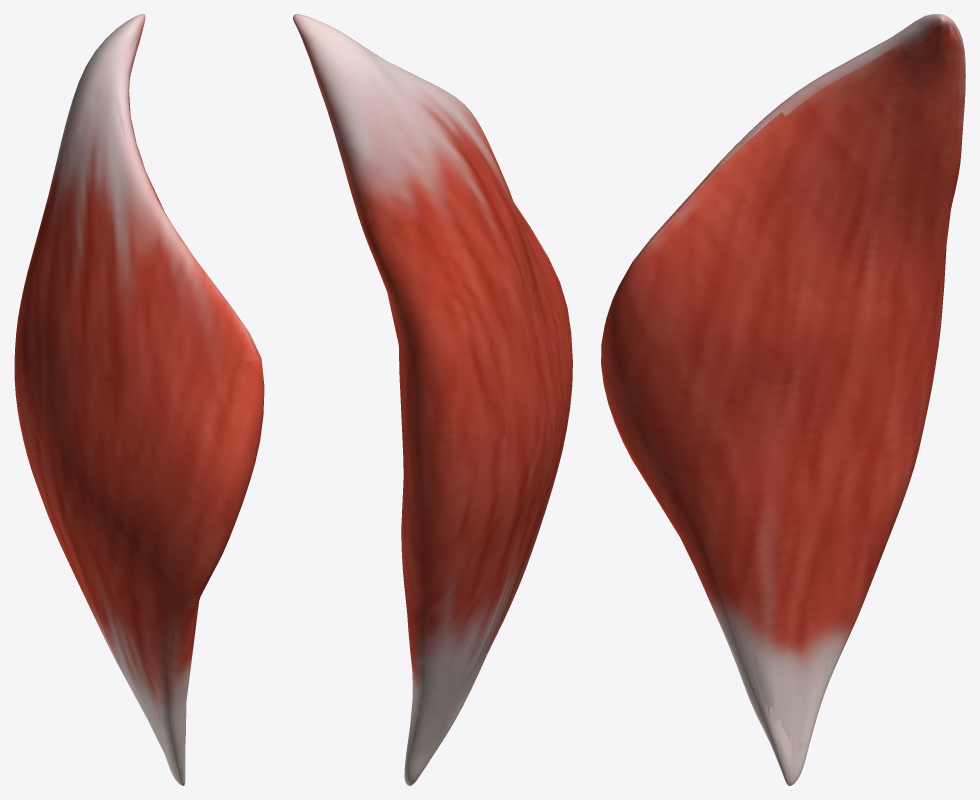
Rendered from R Triceps Brachii Long Head.fbx.
3 renders of one model, left to right at view 1: azimuth 30°, elevation 25°; view 2: azimuth 150°, elevation 25°; view 3: azimuth 270°, elevation 25°, orthographic. The views are drawn at different scales.
Parts seen in each view (by area): view 1: R Triceps Brachii Long Head, R Triceps Brachii Long Head low; view 2: R Triceps Brachii Long Head, R Triceps Brachii Long Head low; view 3: R Triceps Brachii Long Head, R Triceps Brachii Long Head low.
Boxes of the visible parts, x1,y1,x2,y2 form: R Triceps Brachii Long Head: (14, 14, 264, 785); R Triceps Brachii Long Head low: (15, 35, 263, 780); R Triceps Brachii Long Head: (293, 14, 572, 785); R Triceps Brachii Long Head low: (299, 25, 572, 772); R Triceps Brachii Long Head: (601, 14, 965, 785); R Triceps Brachii Long Head low: (601, 16, 964, 777).
Bounding box in the file's own units: 12.19 × 56.84 × 23.97.
